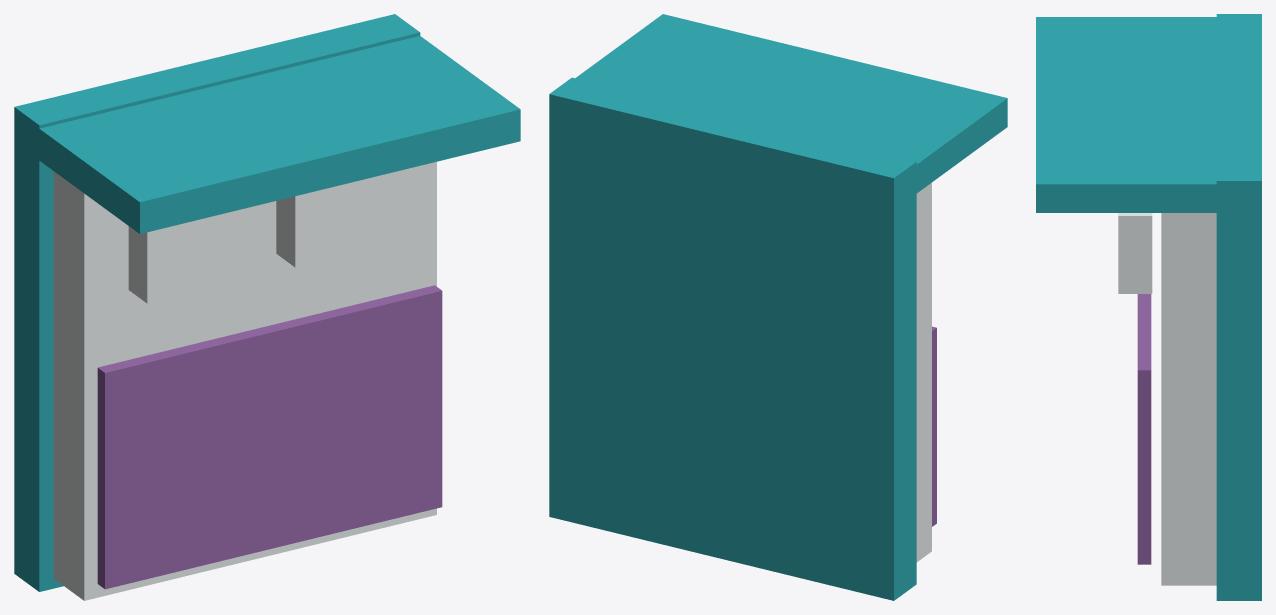
Rendered from bed-queen-king.glb.
The picture shows the model from 3 angles, left to right: view 1: azimuth 30°, elevation 25°; view 2: azimuth 150°, elevation 25°; view 3: azimuth 270°, elevation 25°; orthographic projection. The views are drawn at different scales.
Visible parts, largest first — view 1: world; view 2: world; view 3: world.
Boxes of the visible parts, x1,y1,x2,y2 form: world: [14, 14, 520, 600]; world: [549, 14, 1007, 600]; world: [1036, 14, 1261, 600].
Bounding box in the file's own units: 1.75 × 2.05 × 1.
